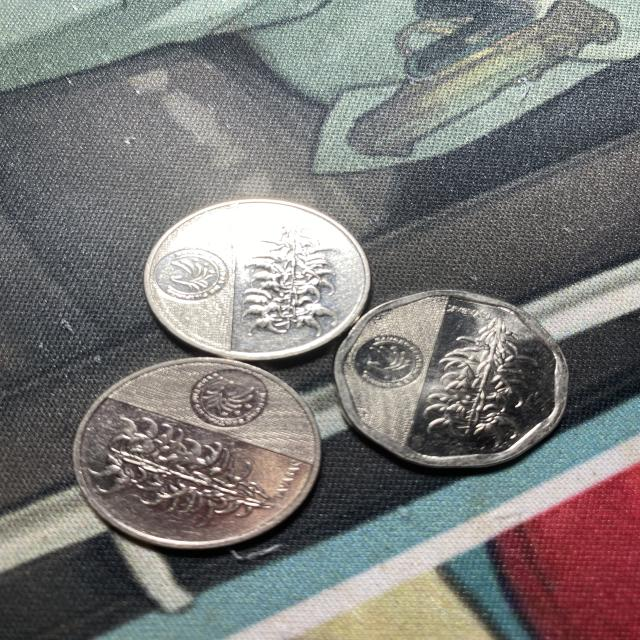5_New_Back: (93, 413, 283, 520), (434, 317, 541, 448), (231, 211, 336, 333)
